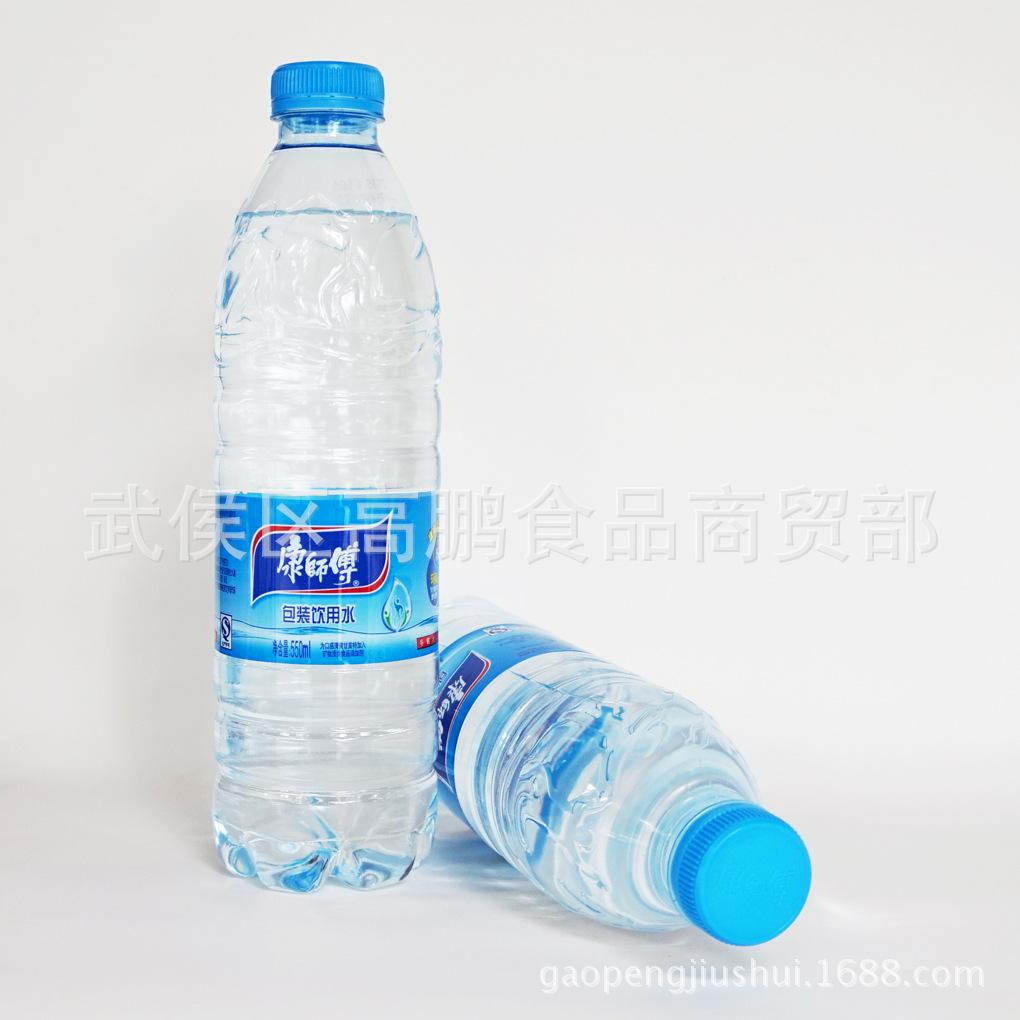amwater: (185, 40, 461, 903), (411, 611, 830, 983)
